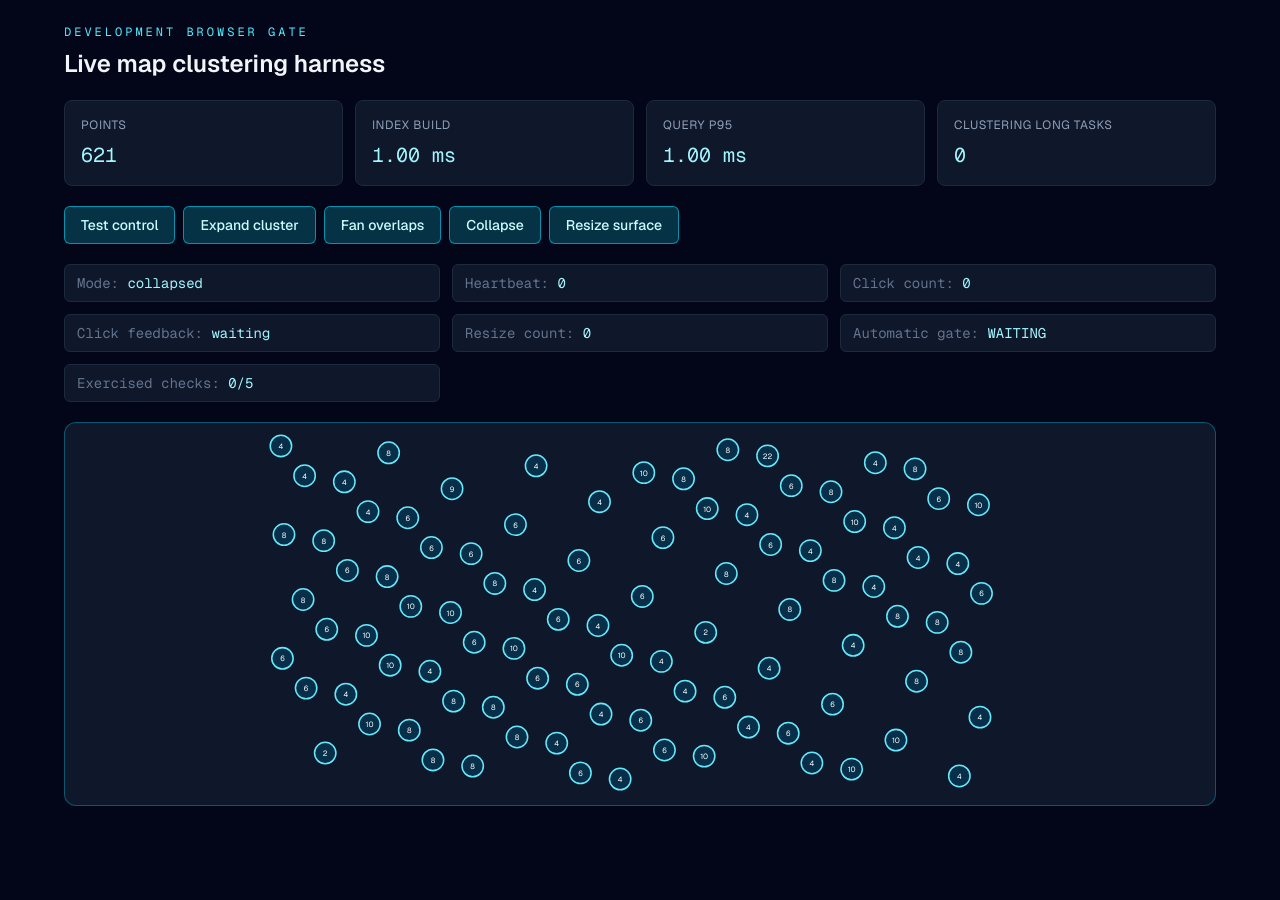
Test: LiveMapClusteringHarness › exercises cluster expansion, maximum-zoom fan, collapse, and resize
Expected: the text with test id "harness-build-time" shows "ms", [372,142,456,168]
Expected: the text with test id "harness-query-p95" shows "ms", [663,142,747,168]
Step 1. Click the button "Test control" → (120, 225), box [64,206,176,244]
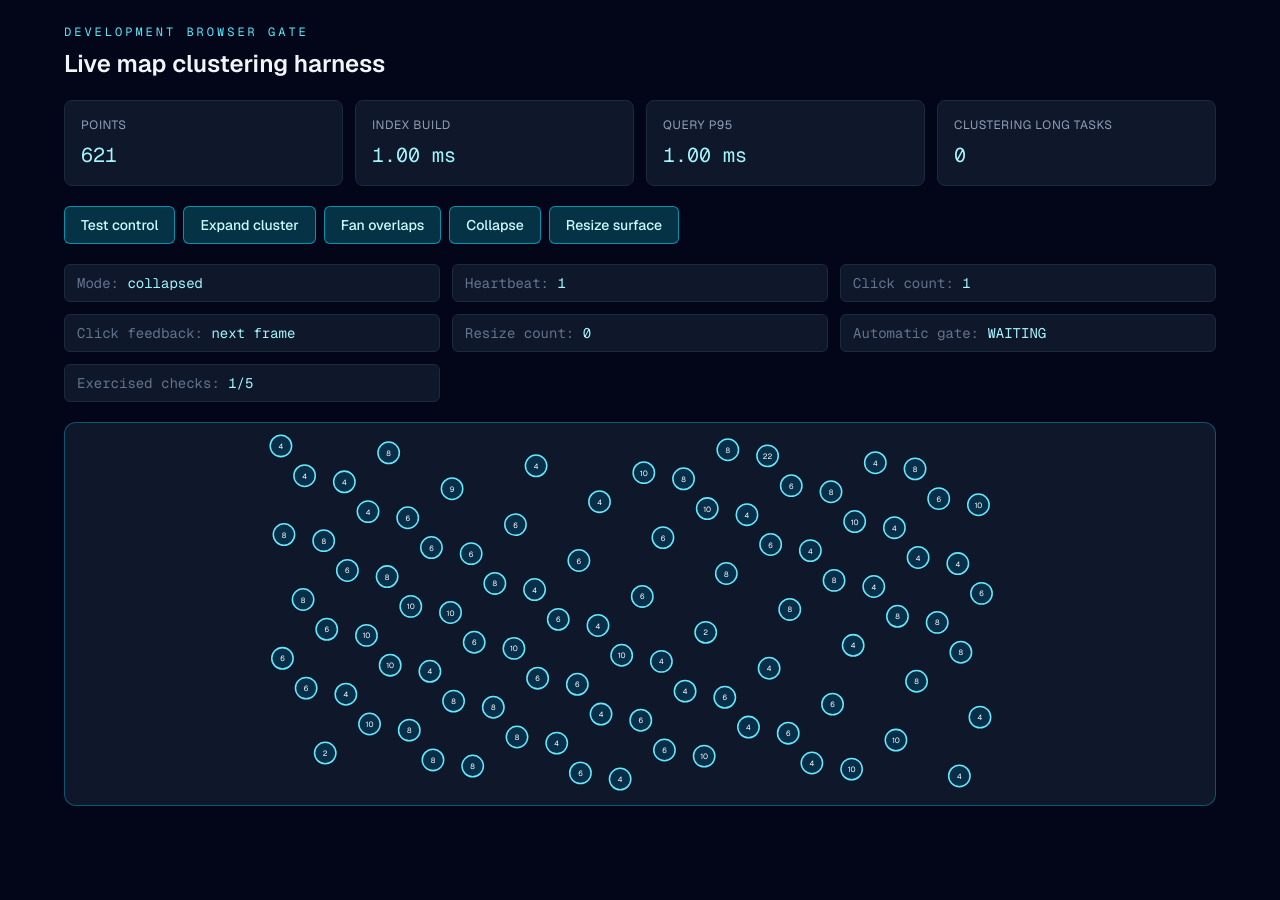
Step 2. Click the button "Expand cluster" → (250, 225), box [184,206,316,244]
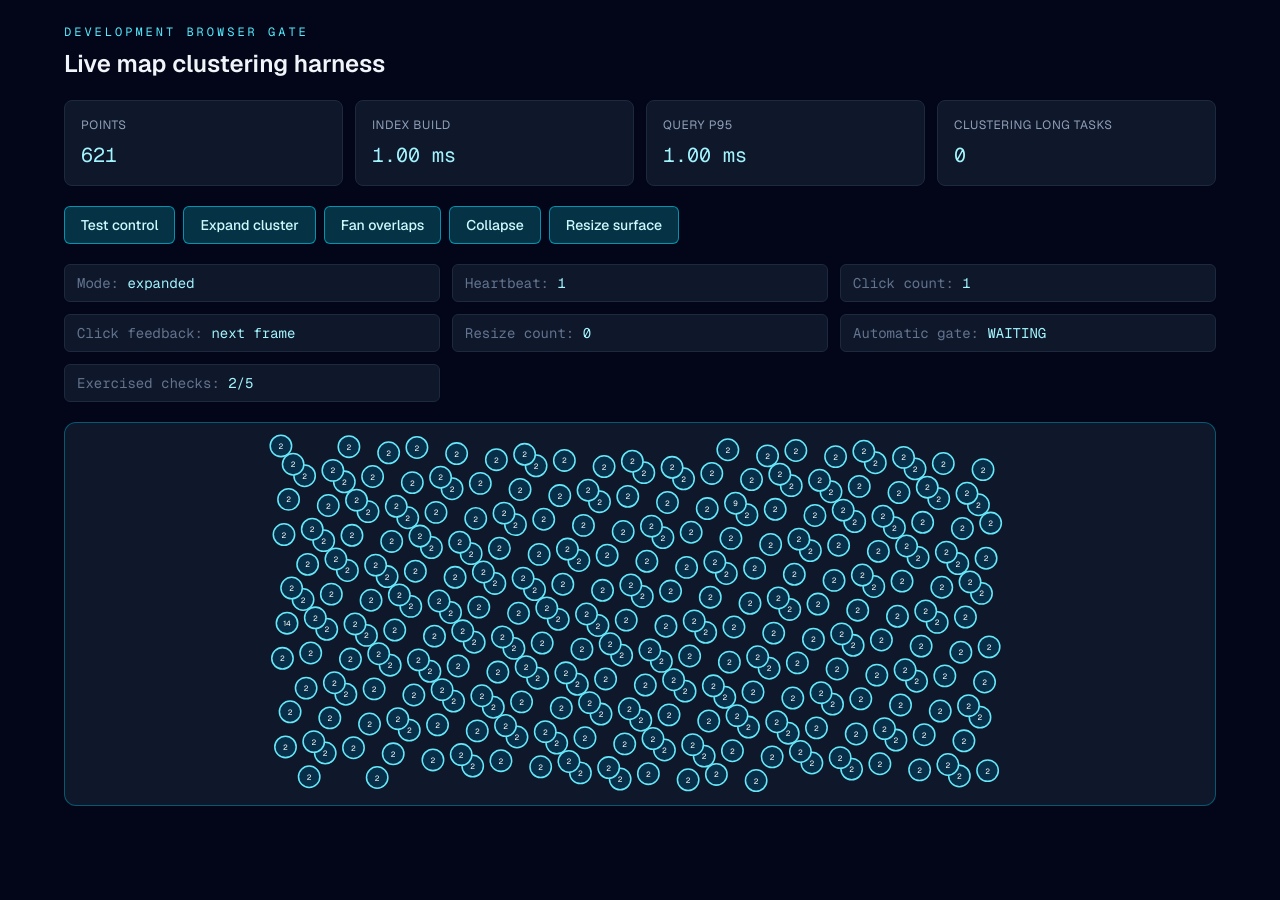
Expected: the text with test id "harness-mode" reads "expanded", [127,274,195,292]
Step 3. Click the button "Fan overlaps" → (383, 225), box [324,206,441,244]
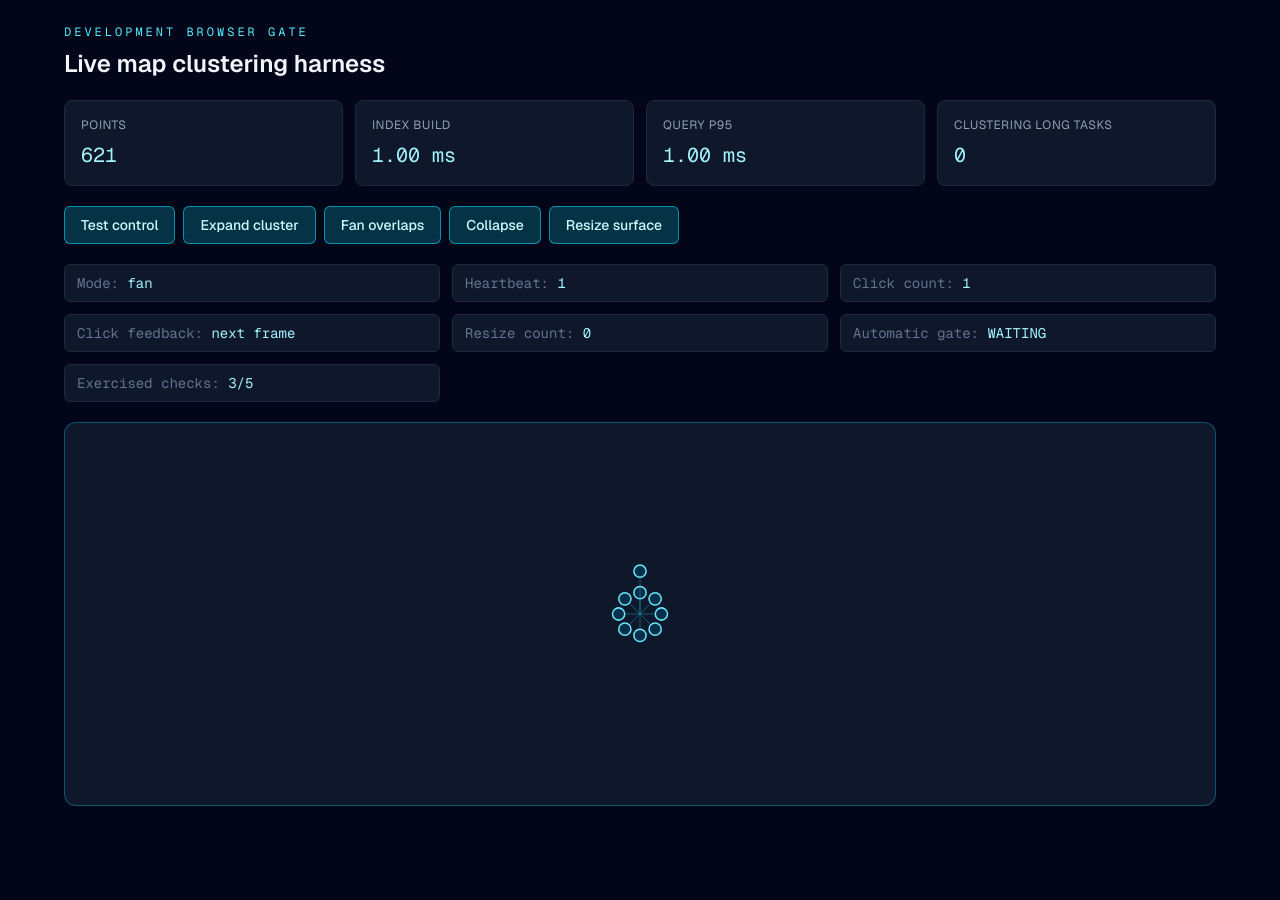
Expected: the text with test id "harness-mode" reads "fan", [127,274,153,292]
Step 4. Click the button "Collapse" → (495, 225), box [449,206,541,244]
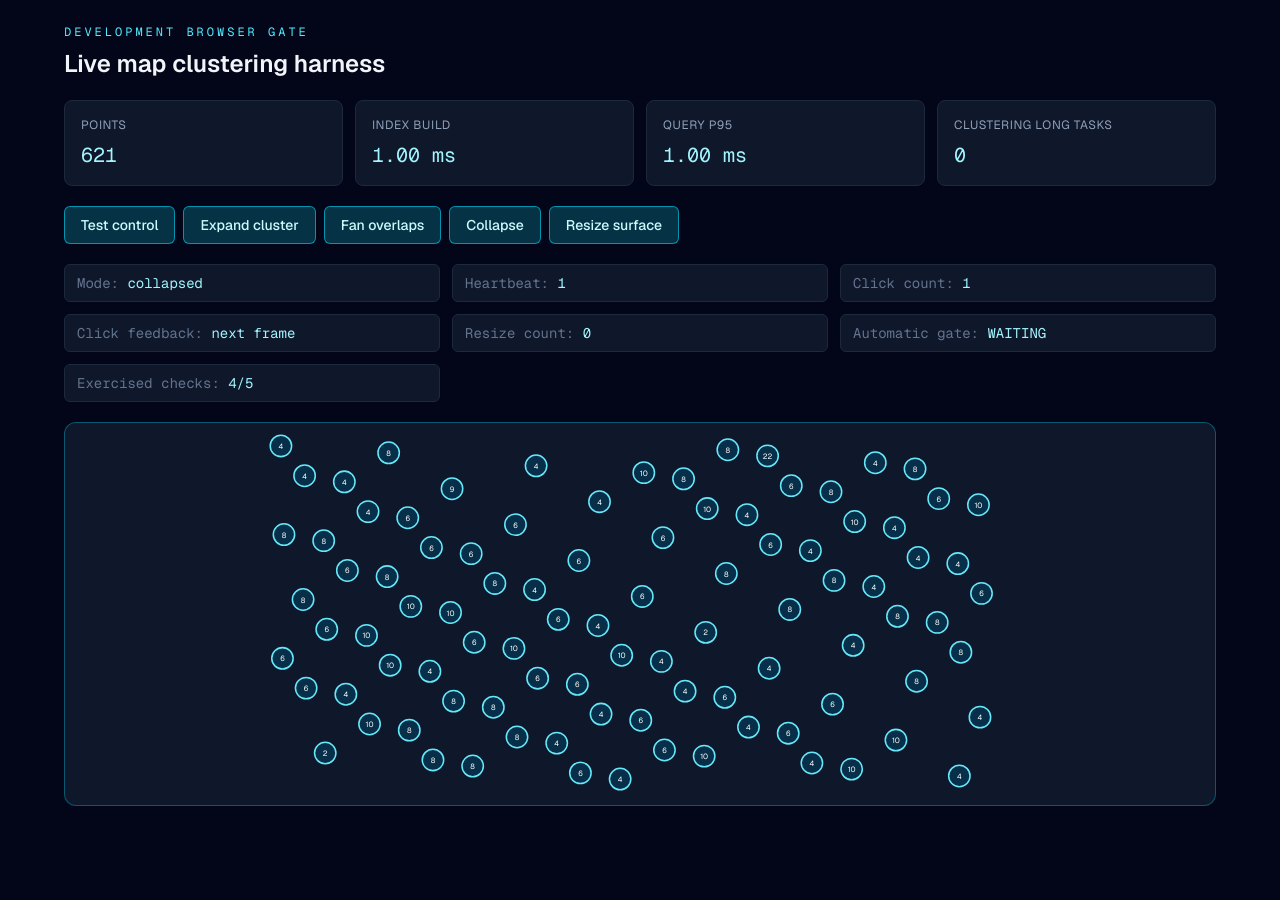
Expected: the text with test id "harness-mode" reads "collapsed", [127,274,203,292]
Step 5. Click the button "Resize surface" → (614, 225), box [549,206,679,244]
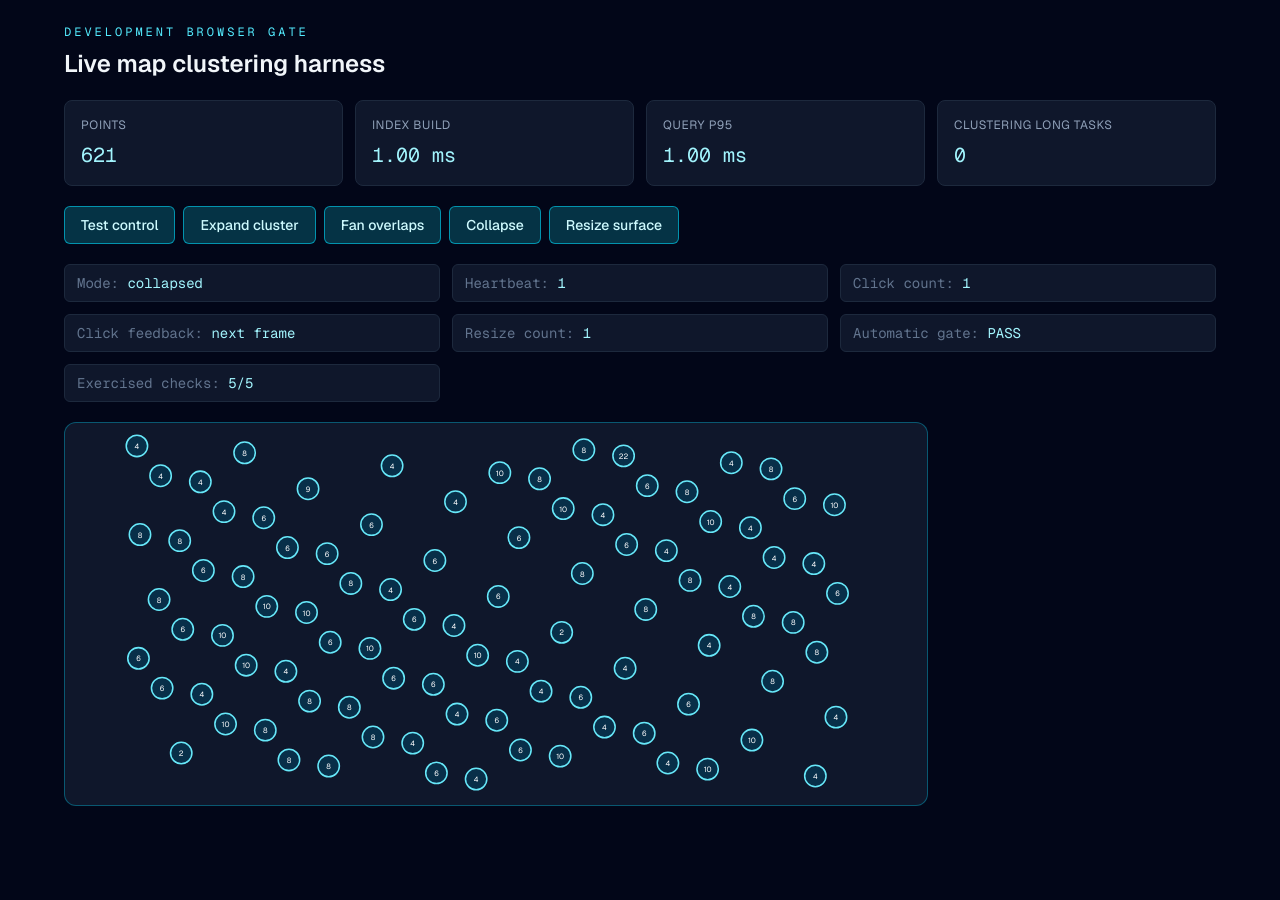
Expected: the text with test id "harness-resize-count" reads "1", [583,324,591,342]
Expected: the text with test id "harness-gate-status" reads "PASS", [987,324,1021,342]
